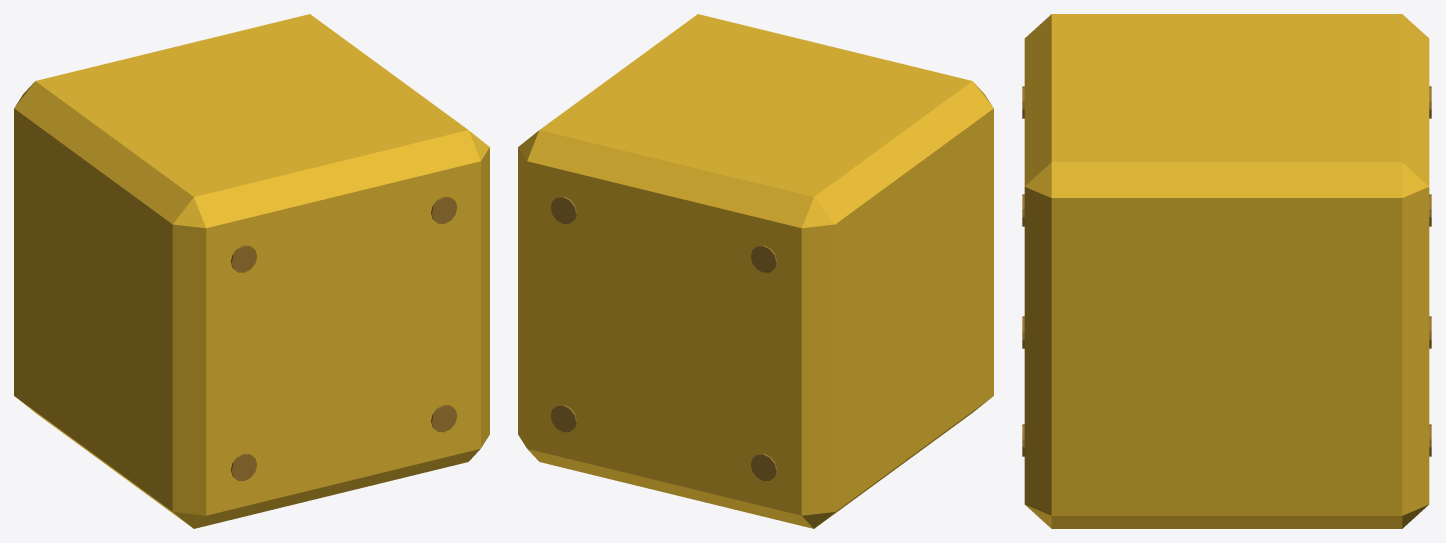
Rendered from Telescopic_Cube.fbx.
3 renders of one model, left to right at view 1: azimuth 30°, elevation 25°; view 2: azimuth 150°, elevation 25°; view 3: azimuth 270°, elevation 25°, orthographic. The views are drawn at different scales.
Visible parts, largest first — view 1: 立方体; view 2: 立方体; view 3: 立方体.
Part boxes in pixels (box(x1,y1,x2,y2)): 立方体: box(14, 14, 489, 528); 立方体: box(518, 14, 993, 528); 立方体: box(1022, 14, 1431, 528).
Size of the model in its own units: 148 by 148 by 150.
